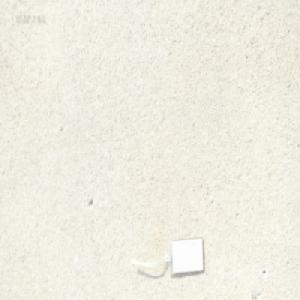LuggageTag: (127, 234, 203, 277)
